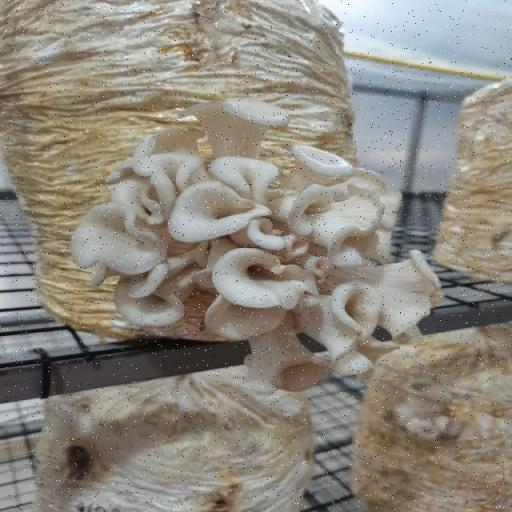White Oyster Mushroom: (61, 93, 446, 395)
